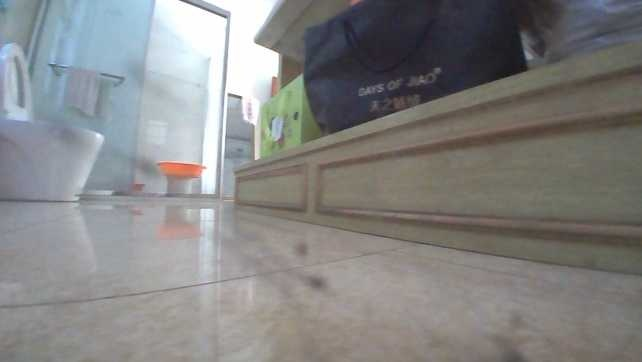toilet: (0, 40, 105, 200)
